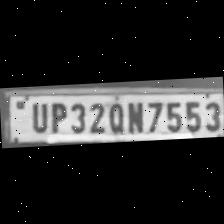2: (84, 99, 106, 134)
3: (200, 97, 223, 133), (66, 99, 86, 134)
5: (160, 97, 182, 132), (181, 98, 202, 132)
7: (141, 97, 163, 132)
N: (122, 98, 144, 134)
P: (45, 99, 67, 133)
Q: (103, 99, 125, 134)
U: (25, 100, 48, 134)
